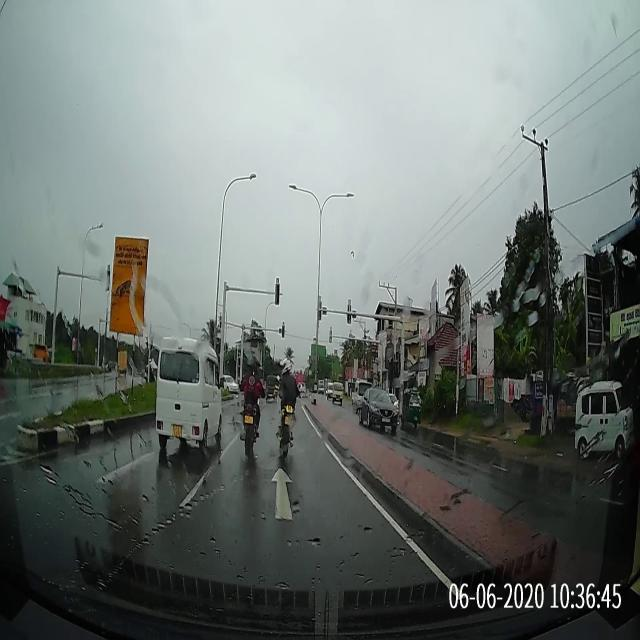forward: (152, 459, 418, 543)
